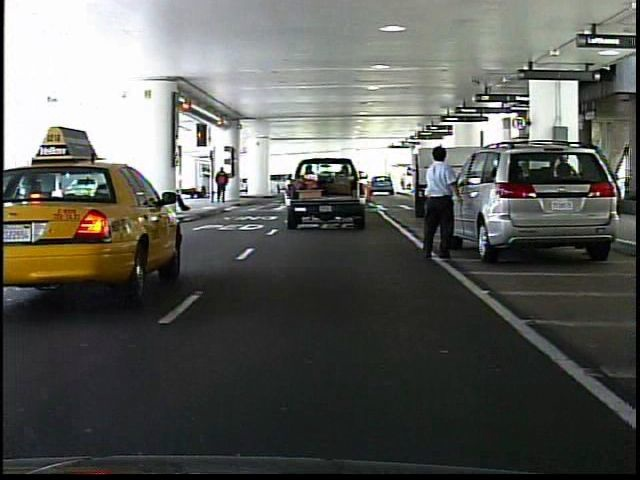person: (412, 142, 465, 268), (213, 163, 231, 206)
